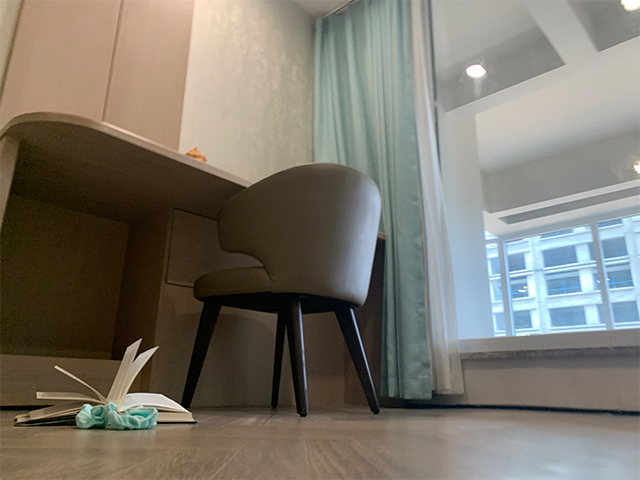cabinet: (1, 109, 389, 408)
curtain: (309, 1, 465, 404)
socks: (73, 401, 160, 433)
stool: (179, 161, 383, 419)
